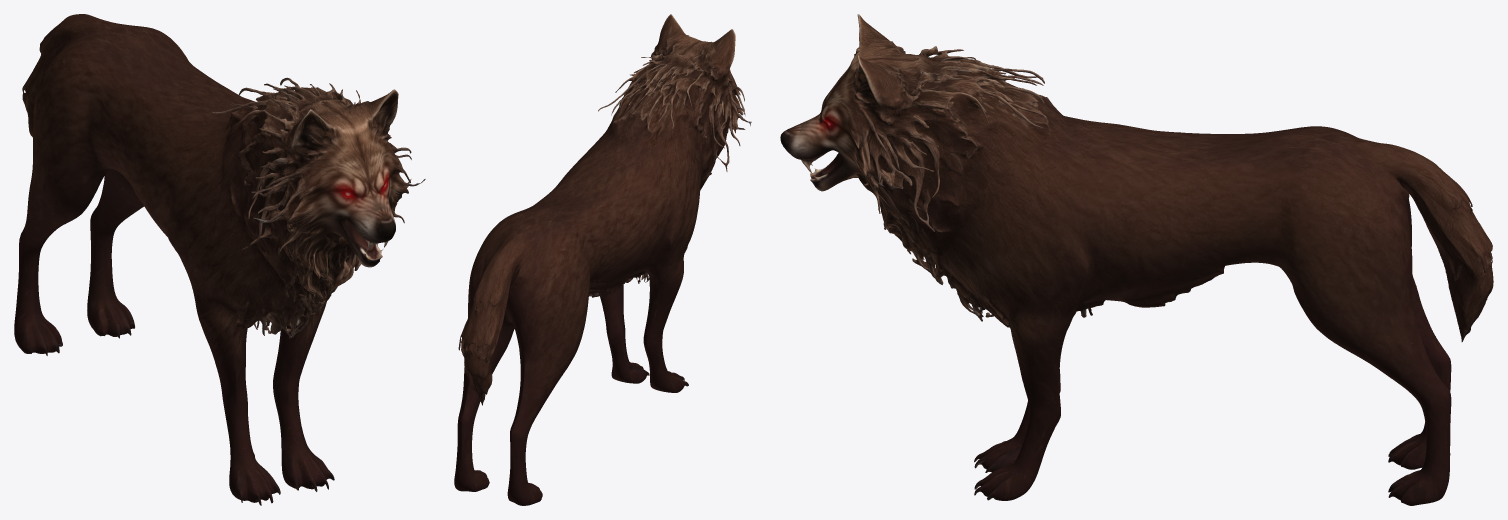
The model's file is dog_mutant.glb.
The picture shows the model from 3 angles, left to right: view 1: azimuth 30°, elevation 25°; view 2: azimuth 150°, elevation 25°; view 3: azimuth 270°, elevation 25°; orthographic projection. The views are drawn at different scales.
Size of the model in its own units: 0.4996 by 1.31 by 1.89.
1 material, 1 textured.
